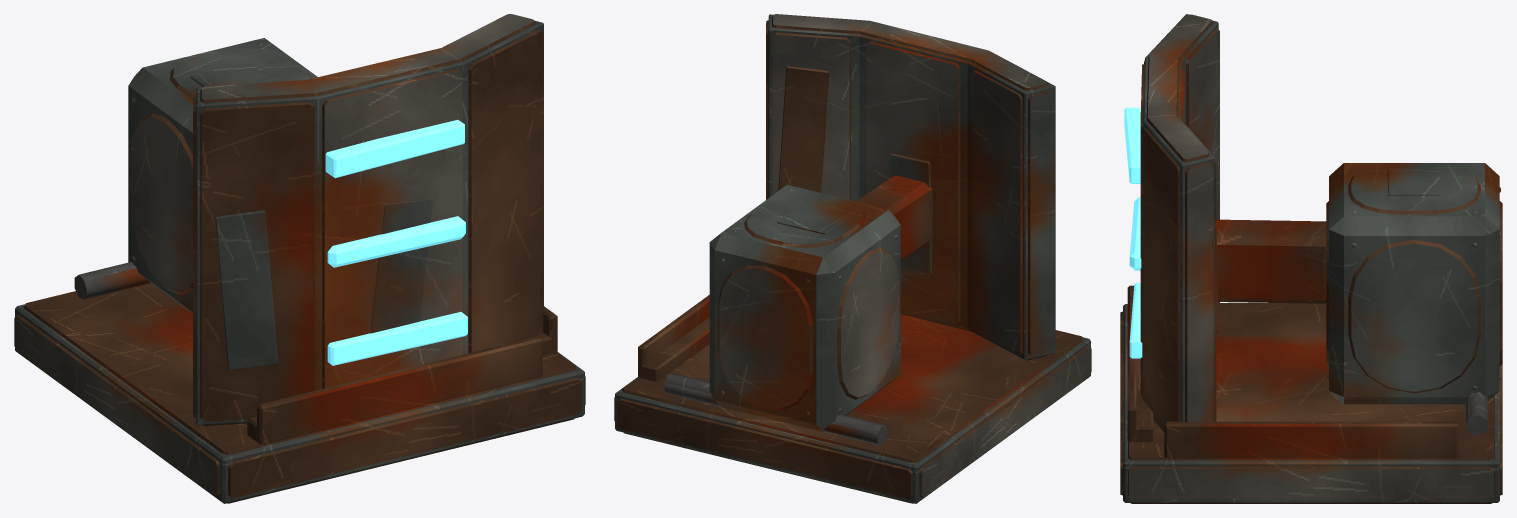
Rendered from R4X_DirectionalShield.glb.
3 renders of one model, left to right at view 1: azimuth 30°, elevation 25°; view 2: azimuth 150°, elevation 25°; view 3: azimuth 270°, elevation 25°, orthographic. The views are drawn at different scales.
Visible parts, largest first — view 1: R4X_DirectionalShield_Body; view 2: R4X_DirectionalShield_Body; view 3: R4X_DirectionalShield_Body.
Boxes of the visible parts, x1=… form: R4X_DirectionalShield_Body: x1=14, y1=14, x2=585, y2=503; R4X_DirectionalShield_Body: x1=614, y1=14, x2=1091, y2=503; R4X_DirectionalShield_Body: x1=1120, y1=14, x2=1502, y2=503.
Bounding box in the file's own units: 0.52 × 0.51 × 0.52.
Materials: 5 (4 with a texture image).
